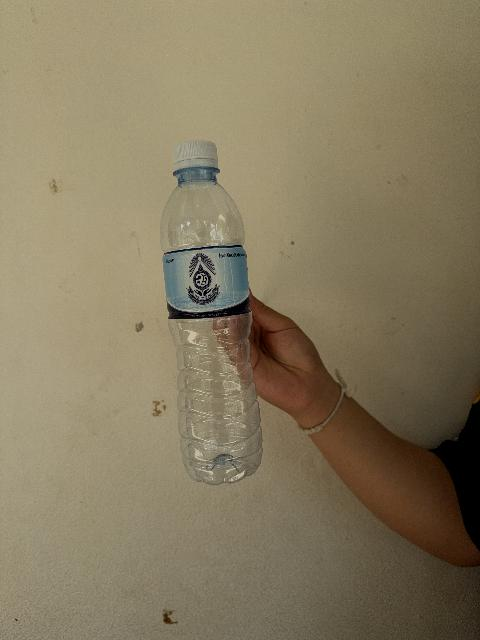bottle: (161, 141, 262, 484)
